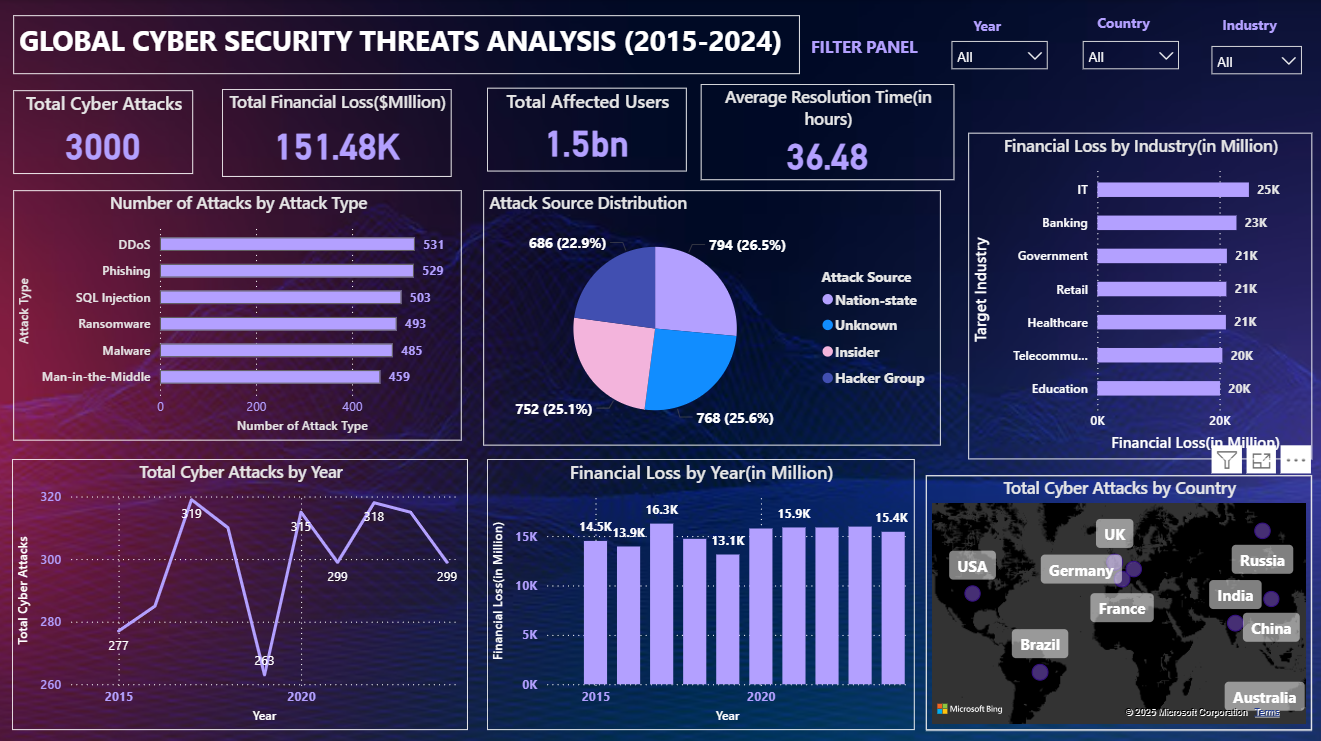

What the dashboard file says about the page in this screenshot:
{"tool":"powerbi","page":{"name":"Page 1","canvas":[1280,720],"ordinal":0},"visuals":[{"type":"card","title":"Total Cyber Attacks","fields":{"Values":["Global_Cybersecurity_Threats_2015-2024.Total Cyber Attacks"]},"box":[15.7,88.1,173.7,80.8],"z":2000},{"type":"card","title":"Total Financial Loss($MIllion)","fields":{"Values":["Sum(Global_Cybersecurity_Threats_2015-2024.Financial Loss (in Million $))"]},"box":[217.2,86.9,222,84.5],"z":4000},{"type":"card","title":"Total Affected Users","fields":{"Values":["Sum(Global_Cybersecurity_Threats_2015-2024.Number of Affected Users)"]},"box":[472.9,85.7,193,80.8],"z":6000},{"type":"card","title":"Average Resolution Time(in hours)","fields":{"Values":["Avg(Global_Cybersecurity_Threats_2015-2024.Incident Resolution Time (in Hours))"]},"box":[679.2,82,244.9,92.9],"z":8000},{"type":"lineChart","fields":{"Category":["Global_Cybersecurity_Threats_2015-2024.Year"],"Y":["Global_Cybersecurity_Threats_2015-2024.Total Cyber Attacks"]},"box":[14.5,444,440.4,261.8],"z":10000},{"type":"clusteredColumnChart","title":"Financial Loss by Year(in Million)","fields":{"Category":["Global_Cybersecurity_Threats_2015-2024.Year"],"Y":["Sum(Global_Cybersecurity_Threats_2015-2024.Financial Loss (in Million $))"]},"box":[472.9,444,412.6,261.8],"z":12000},{"type":"clusteredBarChart","title":"Number of Attacks by Attack Type","fields":{"Category":["Global_Cybersecurity_Threats_2015-2024.Attack Type"],"Y":["CountNonNull(Global_Cybersecurity_Threats_2015-2024.Attack Type)"]},"box":[15.7,184.6,433.1,241.3],"z":14000},{"type":"pieChart","title":"Attack Source Distribution","fields":{"Category":["Global_Cybersecurity_Threats_2015-2024.Attack Source"],"Y":["CountNonNull(Global_Cybersecurity_Threats_2015-2024.Attack Source)"]},"box":[469.3,184.6,441.6,246.1],"z":16000},{"type":"map","fields":{"Category":["Global_Cybersecurity_Threats_2015-2024.Country"],"Size":["Global_Cybersecurity_Threats_2015-2024.Total Cyber Attacks"]},"box":[896.4,459.7,372.8,246.1],"z":18000},{"type":"clusteredBarChart","title":"Financial Loss by Industry(in Million)","fields":{"Category":["Global_Cybersecurity_Threats_2015-2024.Target Industry"],"Y":["Sum(Global_Cybersecurity_Threats_2015-2024.Financial Loss (in Million $))"]},"box":[937.4,129.1,331.8,314.9],"z":20000},{"type":"textbox","box":[15.7,15.7,758.9,56.7],"z":21000},{"type":"textbox","box":[780.6,30.2,124.3,33.8],"z":23000},{"type":"slicer","fields":{"Values":["Global_Cybersecurity_Threats_2015-2024.Year"]},"box":[910.9,30.2,113.4,42.2],"z":24000},{"type":"textbox","box":[937.4,12.1,47.1,35],"z":25000},{"type":"slicer","fields":{"Values":["Global_Cybersecurity_Threats_2015-2024.Country"]},"box":[1037.5,30.2,113.4,42.2],"z":26000},{"type":"textbox","box":[1056.8,8.4,74.8,32.6],"z":27000},{"type":"slicer","fields":{"Values":["Global_Cybersecurity_Threats_2015-2024.Target Industry"]},"box":[1161.8,35,107.4,37.4],"z":28000},{"type":"textbox","box":[1177.5,10.9,74.8,35],"z":29000}]}

Visuals, with their boxes in screenshot pixels (x1, y1, x2, y2), scaled from the page's 1280x720 canvas onto the 1321x741 screenshot:
"Total Cyber Attacks" card: locate(16, 91, 195, 174)
"Total Financial Loss($MIllion)" card: locate(224, 89, 453, 176)
"Total Affected Users" card: locate(488, 88, 687, 171)
"Average Resolution Time(in hours)" card: locate(701, 84, 954, 180)
lineChart - Global_Cybersecurity_Threats_2015-2024.Year x Global_Cybersecurity_Threats_2015-2024.Total Cyber Attacks: locate(15, 457, 469, 726)
"Financial Loss by Year(in Million)" clusteredColumnChart: locate(488, 457, 914, 726)
"Number of Attacks by Attack Type" clusteredBarChart: locate(16, 190, 463, 438)
"Attack Source Distribution" pieChart: locate(484, 190, 940, 443)
map - Global_Cybersecurity_Threats_2015-2024.Country x Global_Cybersecurity_Threats_2015-2024.Total Cyber Attacks: locate(925, 473, 1310, 726)
"Financial Loss by Industry(in Million)" clusteredBarChart: locate(967, 133, 1310, 457)
textbox: locate(16, 16, 799, 75)
textbox: locate(806, 31, 934, 66)
slicer - Global_Cybersecurity_Threats_2015-2024.Year: locate(940, 31, 1057, 75)
textbox: locate(967, 12, 1016, 48)
slicer - Global_Cybersecurity_Threats_2015-2024.Country: locate(1071, 31, 1188, 75)
textbox: locate(1091, 9, 1168, 42)
slicer - Global_Cybersecurity_Threats_2015-2024.Target Industry: locate(1199, 36, 1310, 75)
textbox: locate(1215, 11, 1292, 47)
